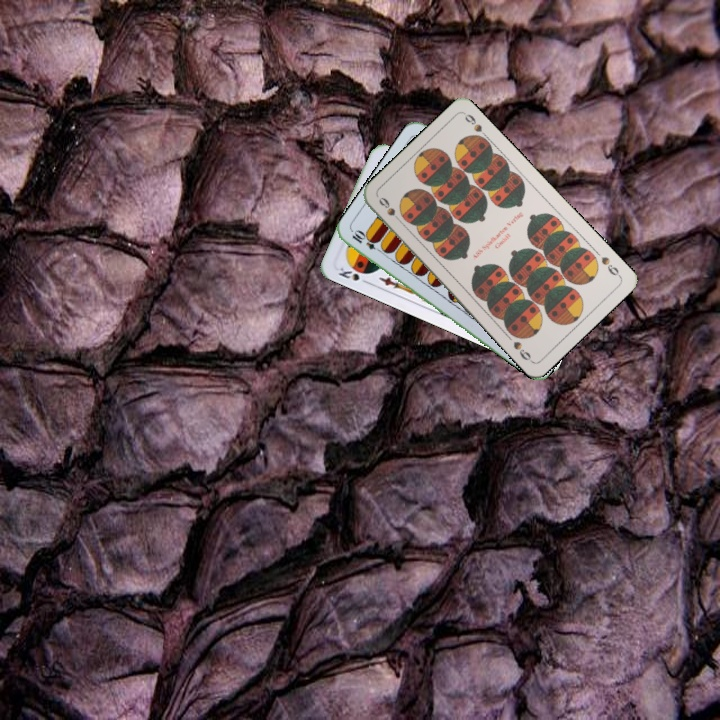E10: (348, 227, 386, 256)
S9: (374, 193, 406, 227), (597, 252, 623, 280)
SK: (334, 263, 372, 287)
